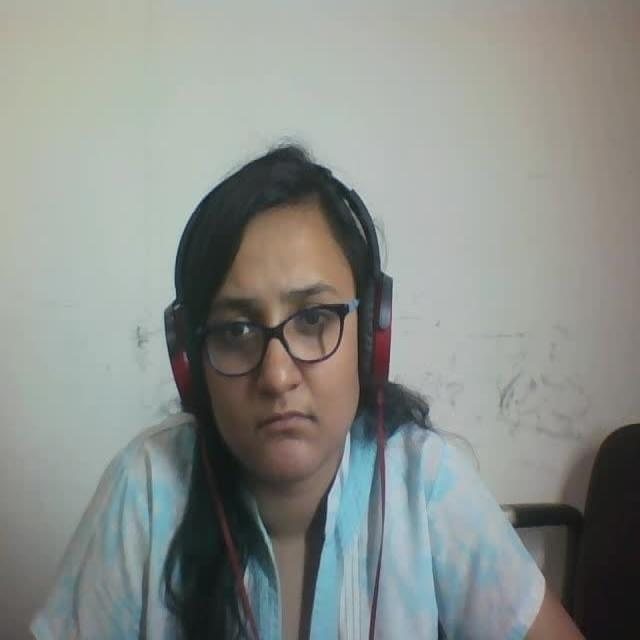Engaged: (146, 134, 443, 504)
